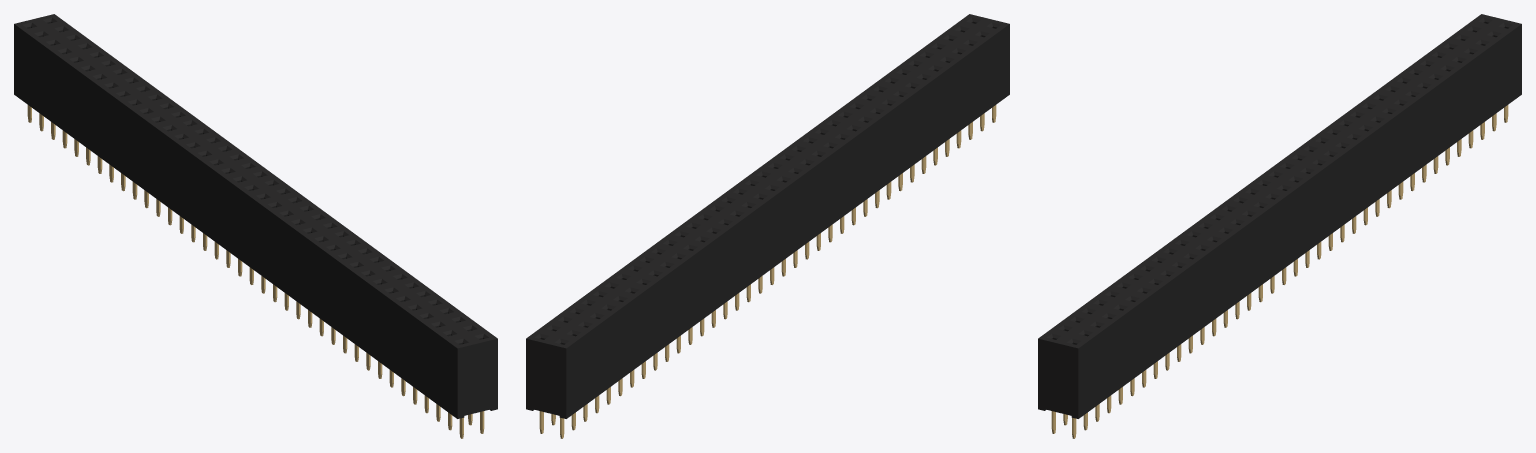
File: kc-pinsocket_2x38_p2.54mm_vertical.glb
3 views of the same model, side by side, from view 1: azimuth 30°, elevation 25°; view 2: azimuth 150°, elevation 25°; view 3: azimuth 330°, elevation 25° (orthographic).
Visible parts, largest first — view 1: 0_0_0_0, 0.75_0.5_0.25_0.9; view 2: 0_0_0_0, 0.75_0.5_0.25_0.9; view 3: 0_0_0_0, 0.75_0.5_0.25_0.9.
Boxes of the visible parts, x1,y1,x2,y2 form: 0_0_0_0: (14, 14, 497, 418); 0.75_0.5_0.25_0.9: (27, 105, 484, 438); 0_0_0_0: (526, 14, 1009, 418); 0.75_0.5_0.25_0.9: (539, 105, 996, 438); 0_0_0_0: (1038, 14, 1521, 418); 0.75_0.5_0.25_0.9: (1051, 105, 1508, 438).
Bounding box in the file's own units: 0.5078 × 1.16 × 9.65.
